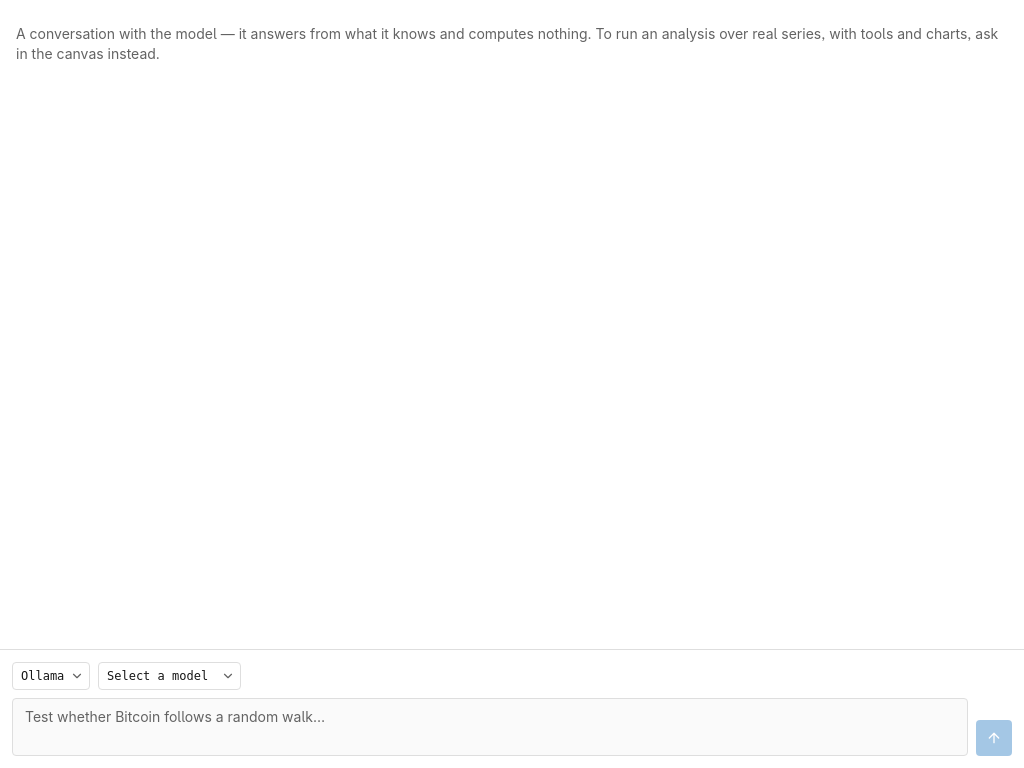
Scenario: Conversation › streams a reply and then shows the persisted transcript
Select "llama3.2:latest" in the dropdown named "Model": coordinates (170, 676) [98, 662, 241, 690]
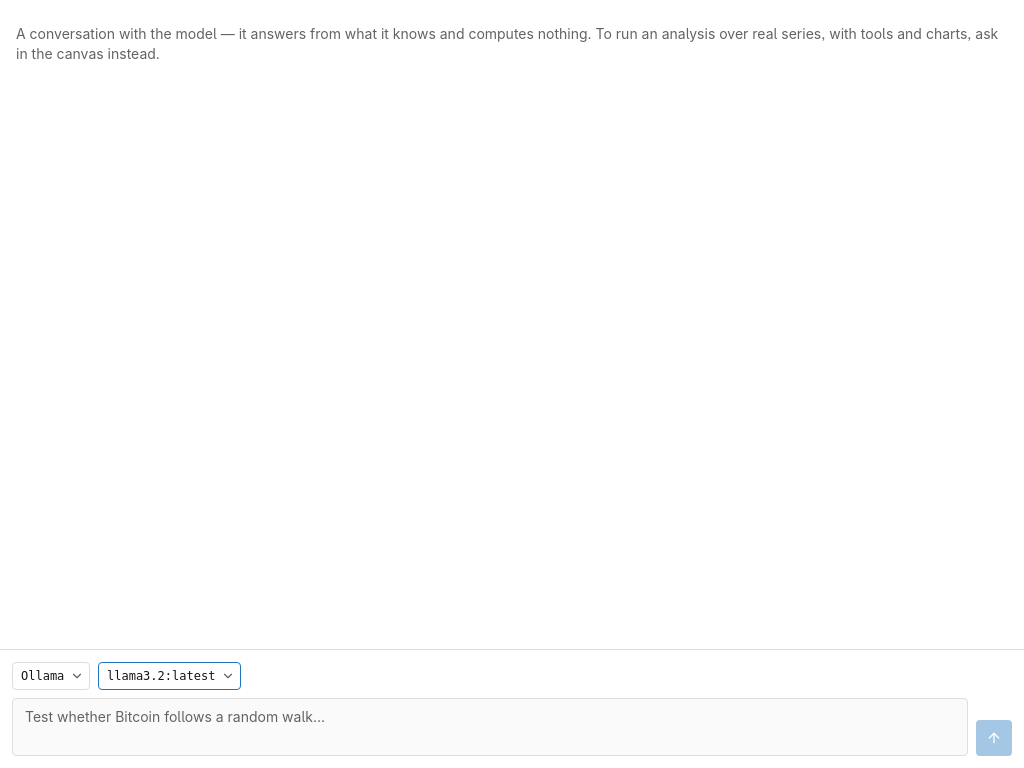
In the text box named "Message": coordinates (490, 727) [12, 698, 968, 756], type "beta?"
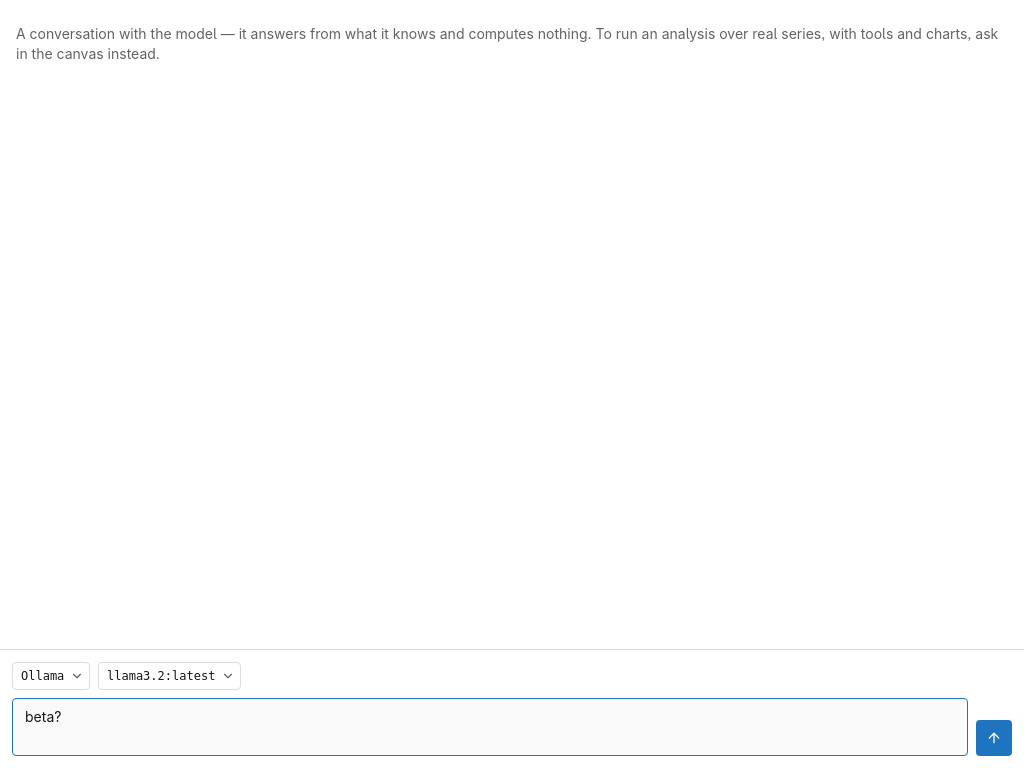
Click the button named "Send message": coordinates (994, 738) [976, 720, 1012, 756]
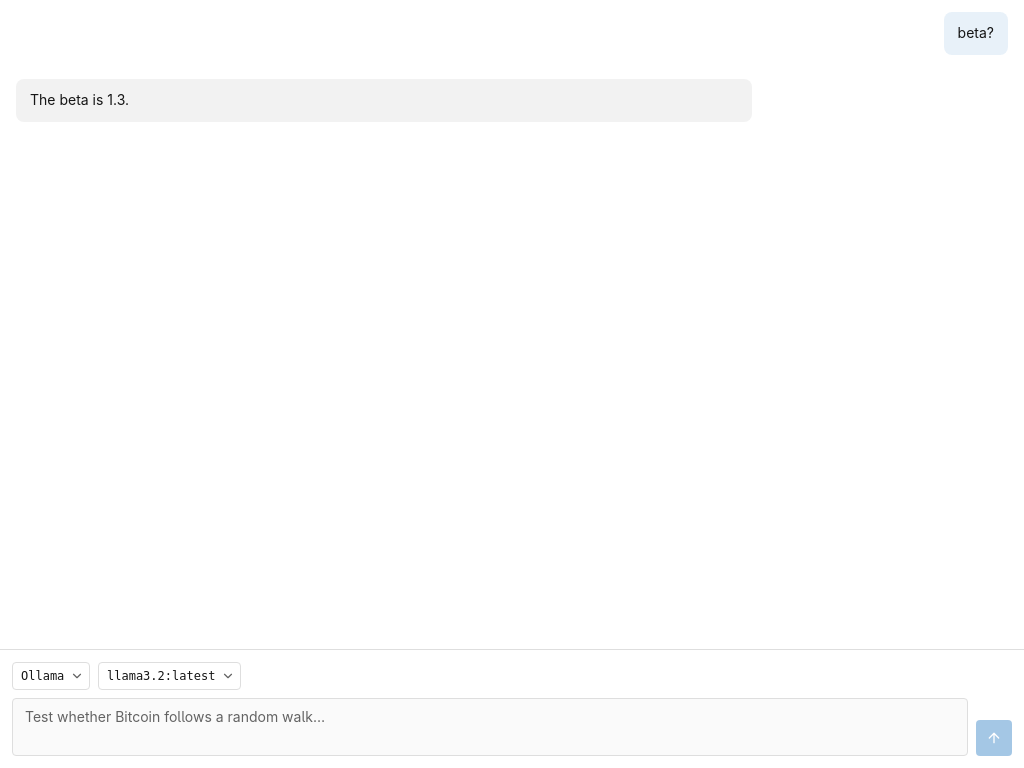
Check: the text "The beta is 1.3." is shown, box [30, 91, 129, 108]
